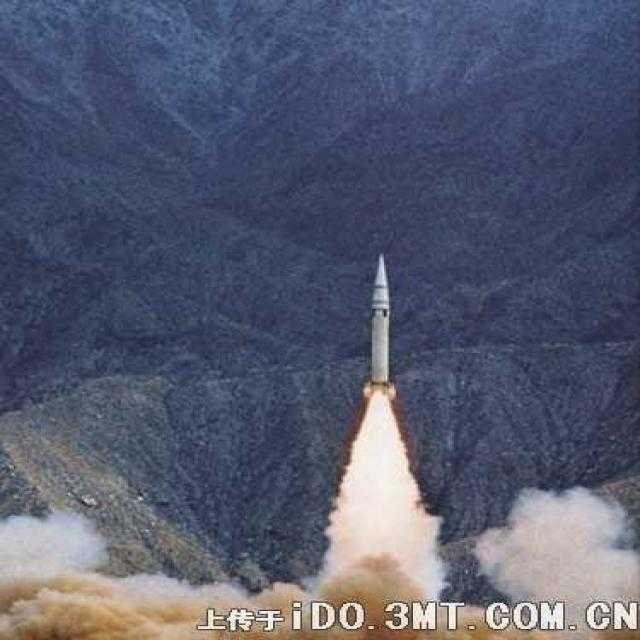missile: (354, 239, 414, 409)
